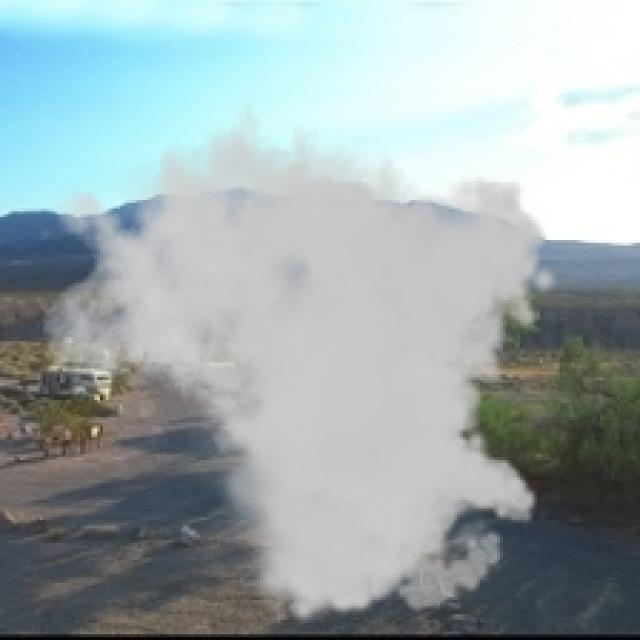smoke: (40, 83, 560, 626)
